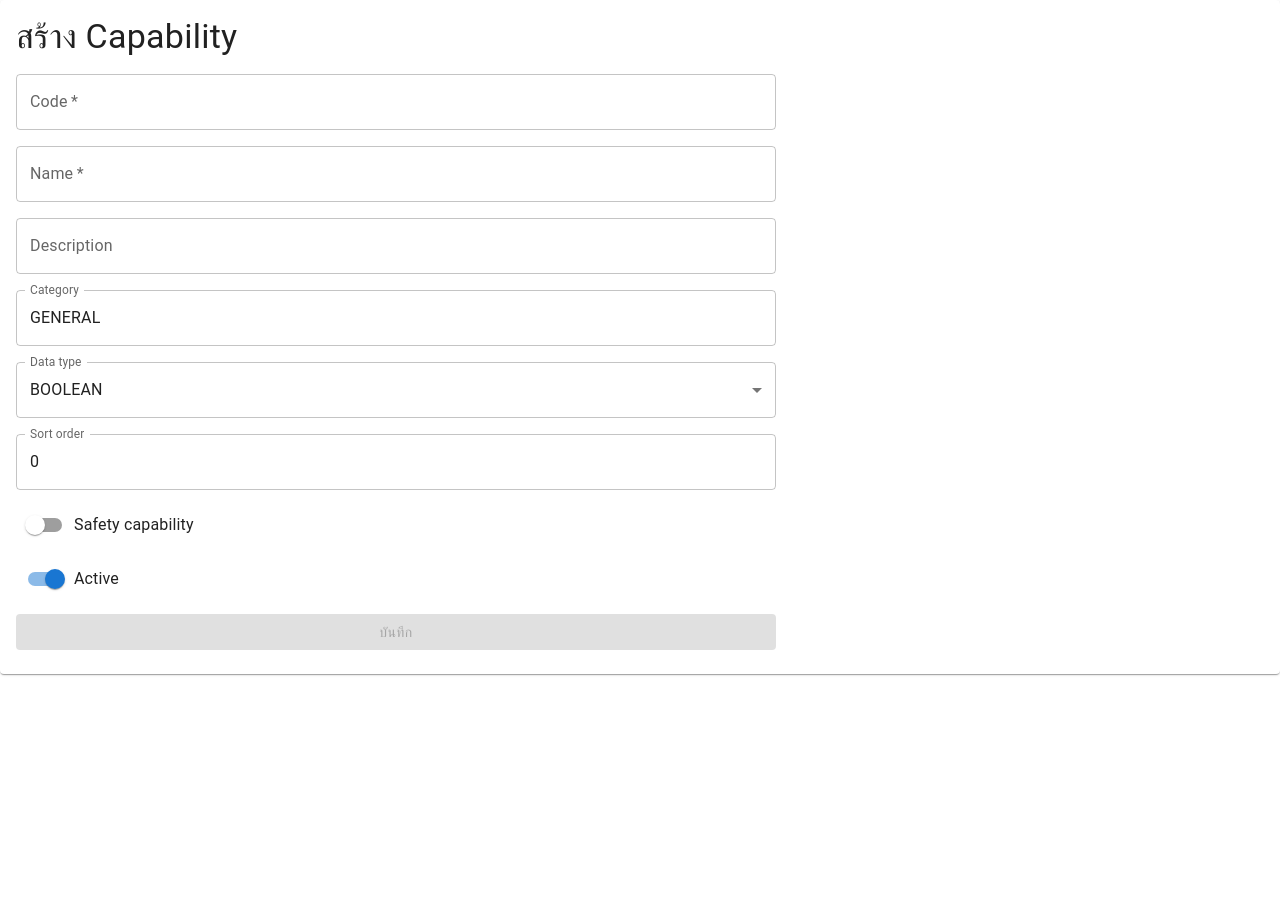
Test: Fleet M4.2 capability UI › shows safety warning
Click the checkbox labelled "Safety capability": (109, 525) [25,515,194,535]
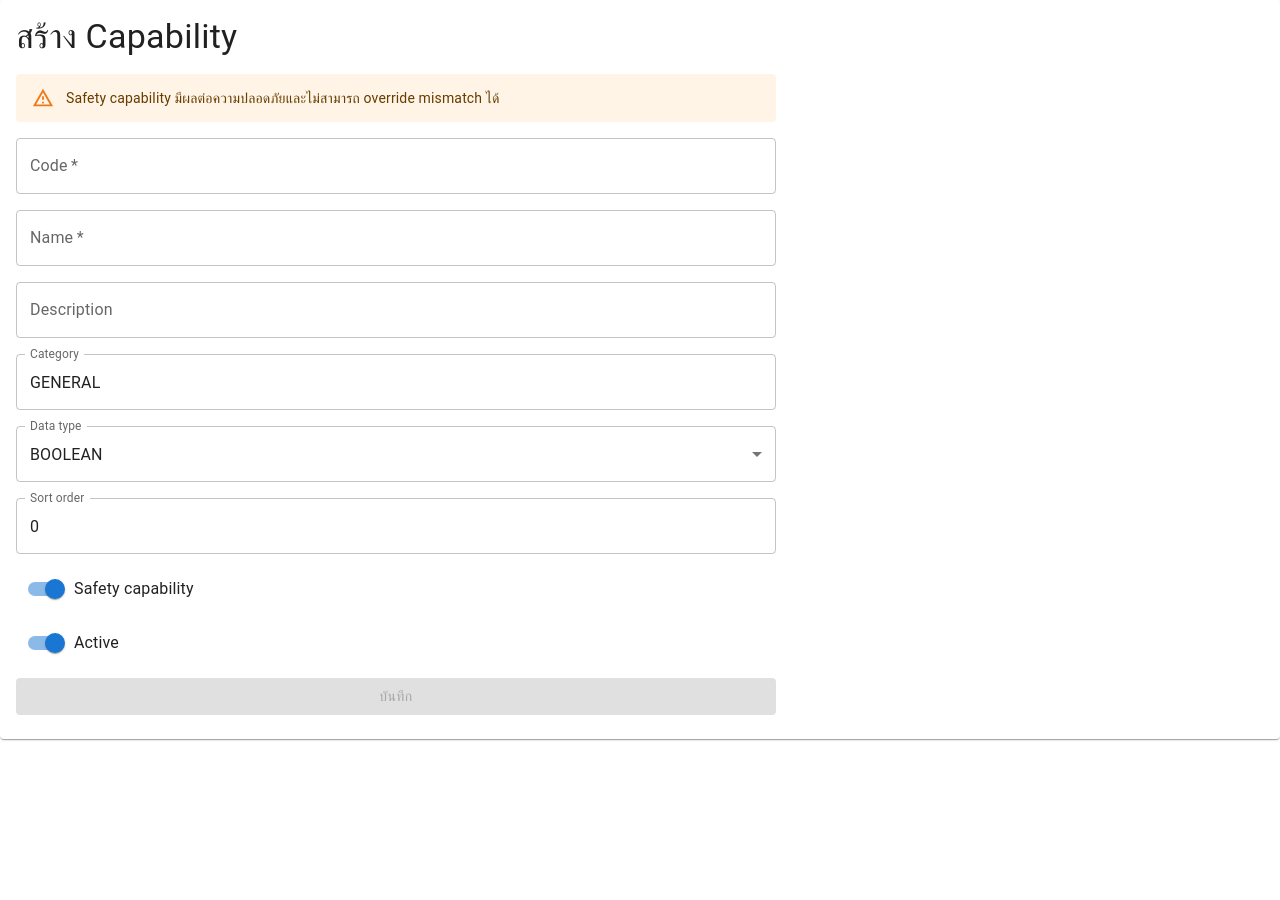
Result: the text "ไม่สามารถ override" is shown at [66,90,500,106]
